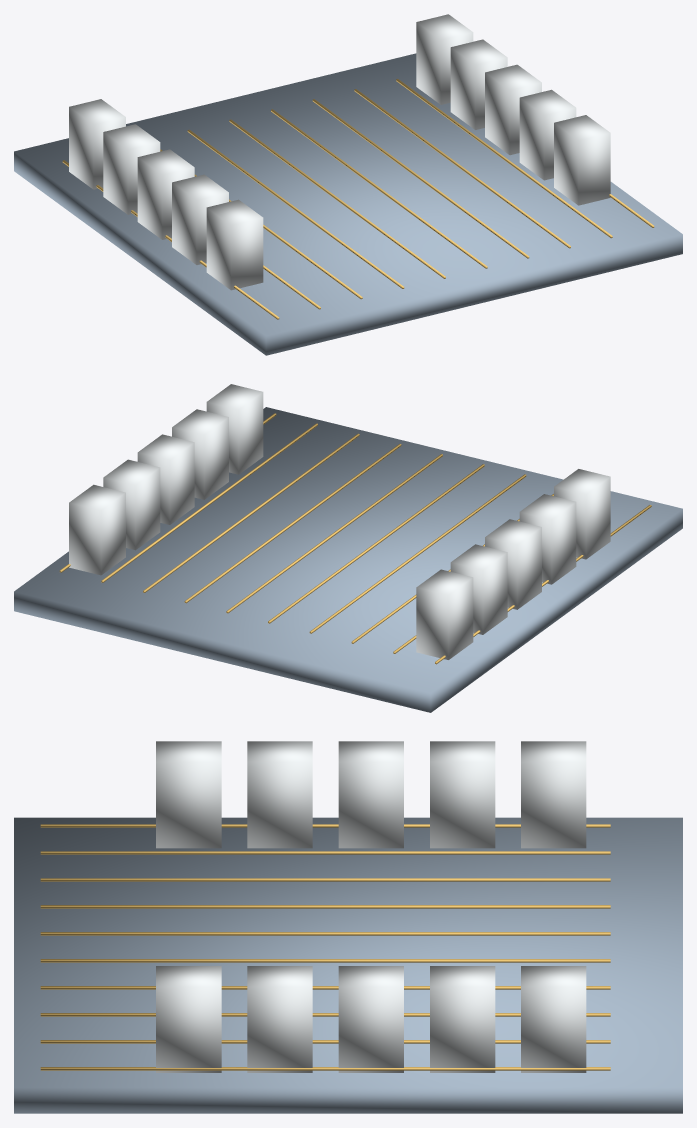
The model's file is 07_L89_StormShelterInteriorSupportDeck.glb.
The picture shows the model from 3 angles, top to bottom: view 1: azimuth 30°, elevation 25°; view 2: azimuth 150°, elevation 25°; view 3: azimuth 270°, elevation 25°; orthographic projection. The views are drawn at different scales.
Parts seen in each view (by area): view 1: L87_StormShelterInteriorSuppo_Part_0000, L87_StormShelterInteriorSuppo_Part_0002, L87_StormShelterInteriorSuppo_Part_0001; view 2: L87_StormShelterInteriorSuppo_Part_0000, L87_StormShelterInteriorSuppo_Part_0002, L87_StormShelterInteriorSuppo_Part_0001; view 3: L87_StormShelterInteriorSuppo_Part_0000, L87_StormShelterInteriorSuppo_Part_0002, L87_StormShelterInteriorSuppo_Part_0001.
Part boxes in pixels (x1,y1,x2,y2): L87_StormShelterInteriorSuppo_Part_0000: [14, 53, 682, 355]; L87_StormShelterInteriorSuppo_Part_0002: [69, 14, 610, 290]; L87_StormShelterInteriorSuppo_Part_0001: [62, 79, 654, 319]; L87_StormShelterInteriorSuppo_Part_0000: [14, 407, 682, 712]; L87_StormShelterInteriorSuppo_Part_0002: [69, 384, 610, 659]; L87_StormShelterInteriorSuppo_Part_0001: [59, 413, 651, 664]; L87_StormShelterInteriorSuppo_Part_0000: [14, 817, 682, 1113]; L87_StormShelterInteriorSuppo_Part_0002: [156, 741, 586, 1072]; L87_StormShelterInteriorSuppo_Part_0001: [40, 824, 610, 1070].
Size of the model in its own units: 8.4 by 1.74 by 8.8.
